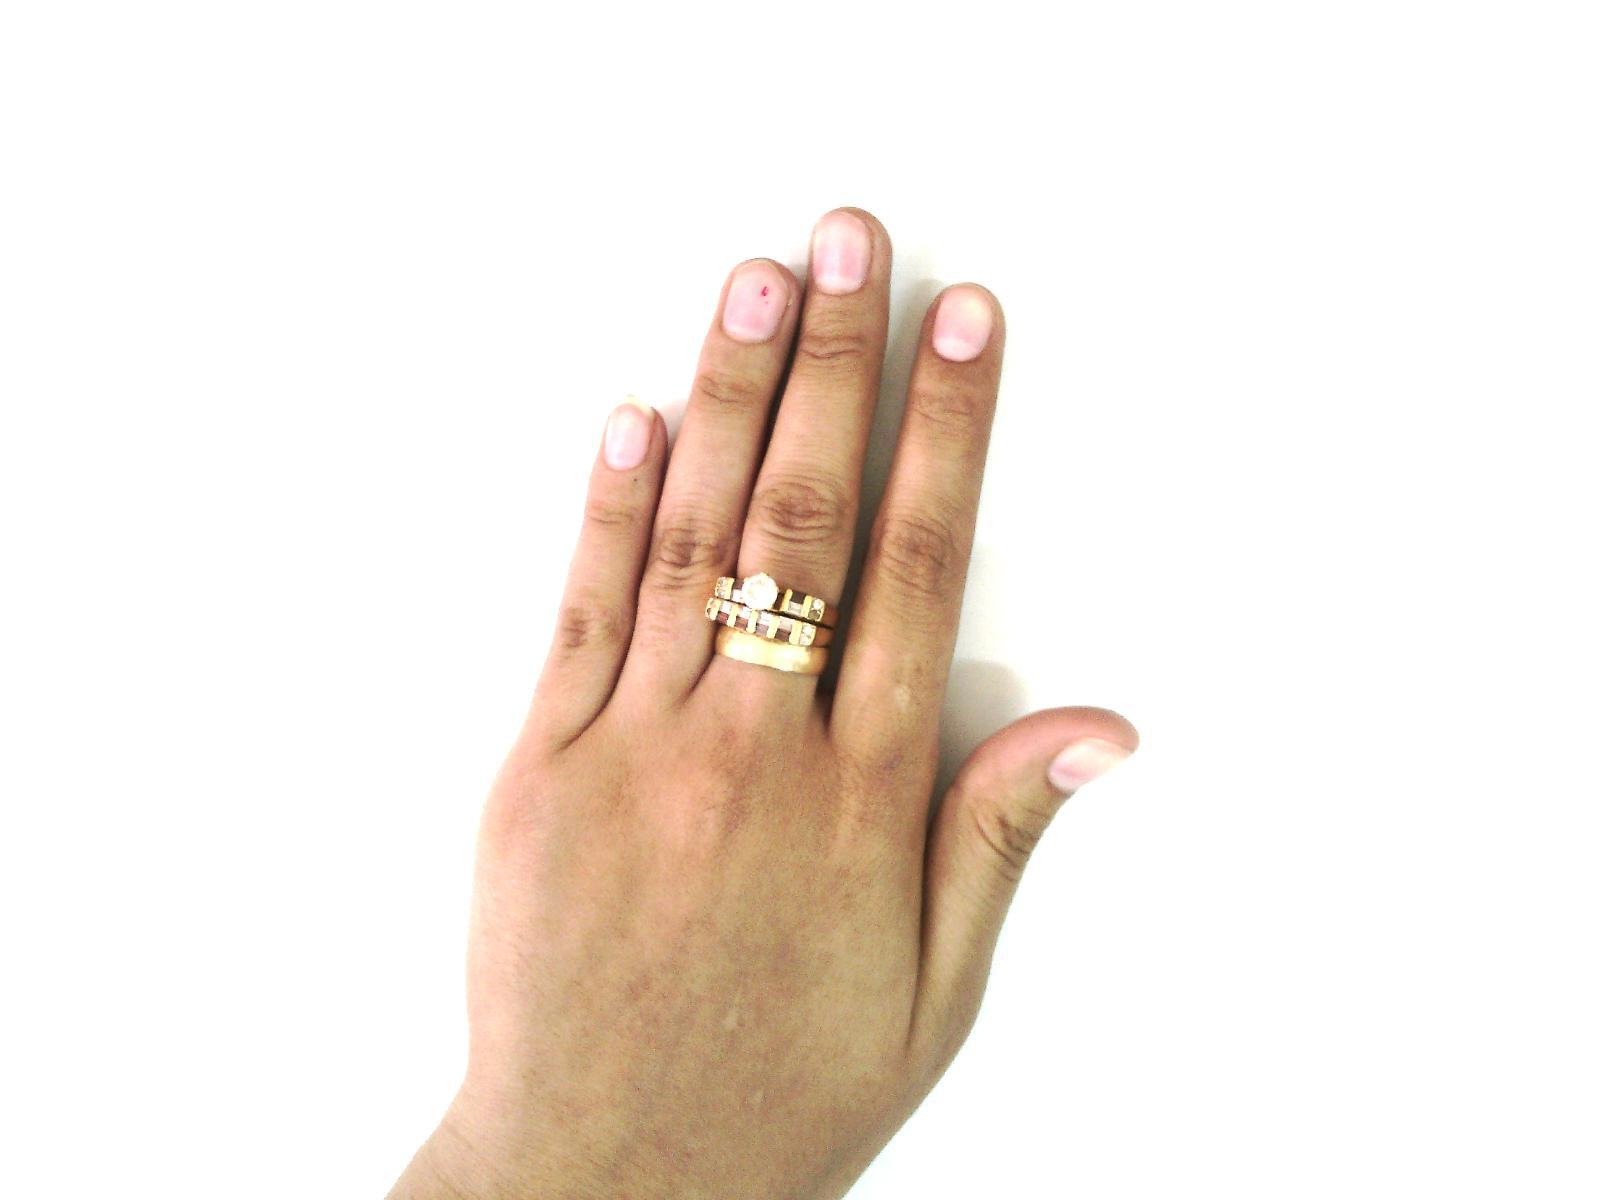hand: (430, 205, 1159, 1191)
